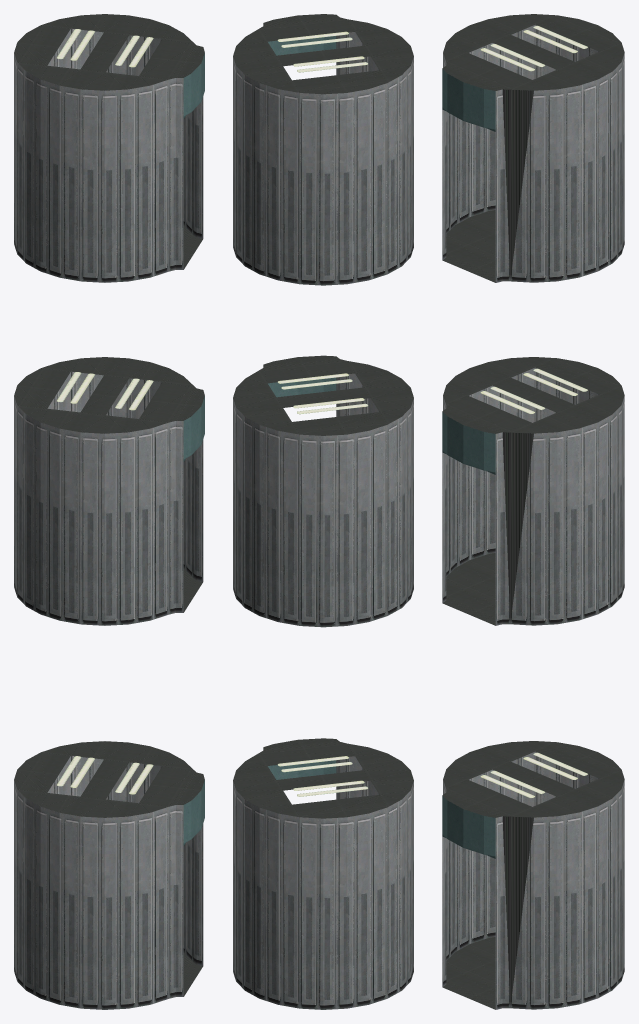
File: mun_tato_hospital_s01_r13_elevatora_mesh_r13.fbx
The picture shows the model from 3 angles, left to right: view 1: azimuth 30°, elevation 25°; view 2: azimuth 150°, elevation 25°; view 3: azimuth 270°, elevation 25°; orthographic projection.
Visible parts, largest first — view 1: mesh_node; view 2: mesh_node; view 3: mesh_node.
Boxes of the visible parts, <box> form: mesh_node: <box>14,14,204,1009</box>; mesh_node: <box>233,14,413,1009</box>; mesh_node: <box>442,14,624,1009</box>.
Bounding box in the file's own units: 3.01 × 16.82 × 3.01.
